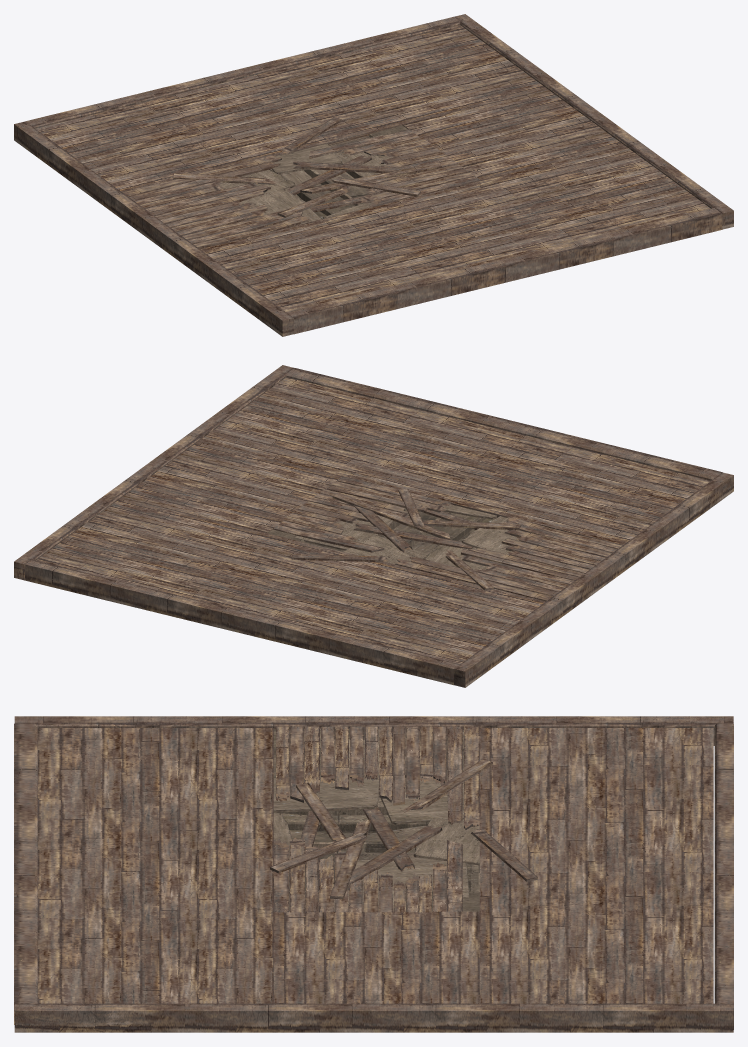
File: SM_Asy_ShackFloor01.fbx
3 views of the same model, one above another, from view 1: azimuth 30°, elevation 25°; view 2: azimuth 150°, elevation 25°; view 3: azimuth 270°, elevation 25° (orthographic). The views are drawn at different scales.
Visible parts, largest first — view 1: SM_Asy_ShackFloor01.mo; view 2: SM_Asy_ShackFloor01.mo; view 3: SM_Asy_ShackFloor01.mo.
Boxes of the visible parts, left/top/right/bottom form: SM_Asy_ShackFloor01.mo: left=14, top=14, right=733, bottom=336; SM_Asy_ShackFloor01.mo: left=14, top=365, right=733, bottom=687; SM_Asy_ShackFloor01.mo: left=14, top=716, right=733, bottom=1032.
Size of the model in its own units: 1019 by 38.35 by 1051.
